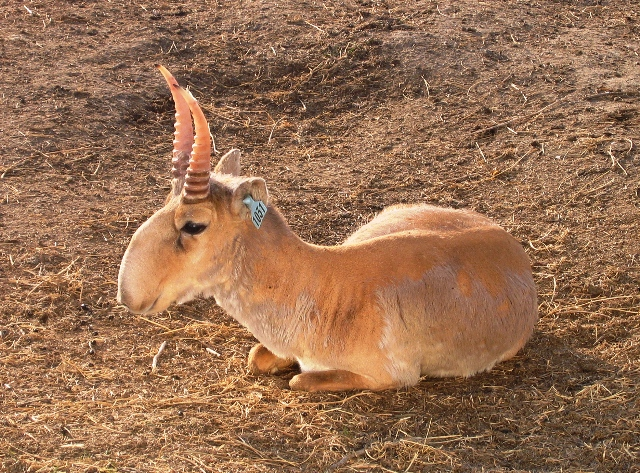saiga: (116, 65, 540, 395)
